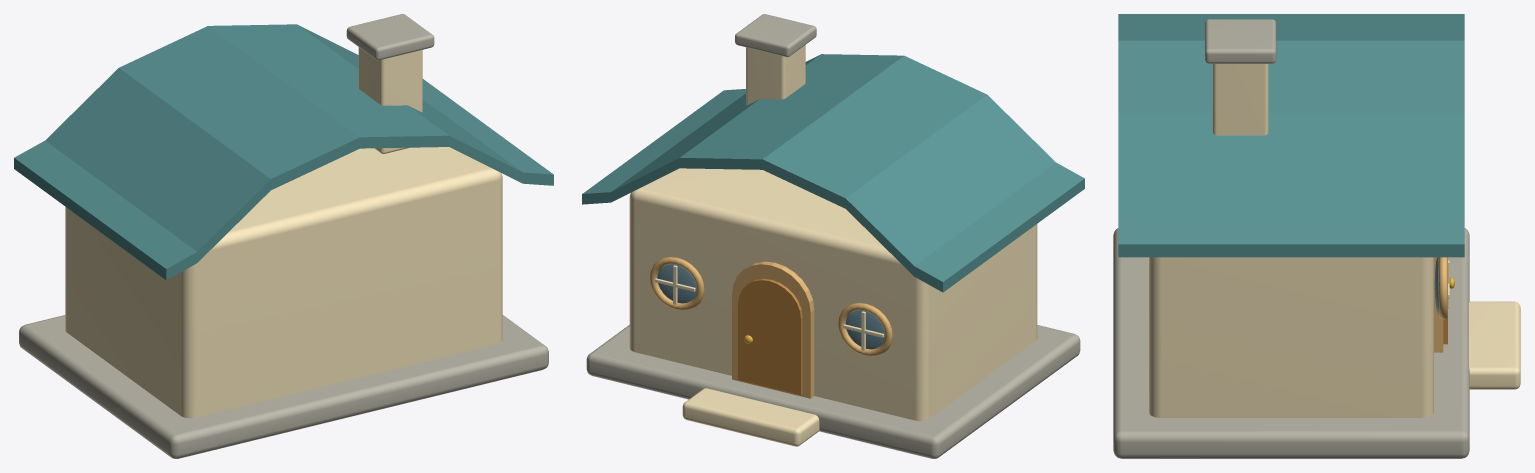
Rendered from house.fbx.
3 views of the same model, side by side, from view 1: azimuth 30°, elevation 25°; view 2: azimuth 150°, elevation 25°; view 3: azimuth 270°, elevation 25° (orthographic). The views are drawn at different scales.
Visible parts, largest first — view 1: house; view 2: house; view 3: house.
Part boxes in pixels (bbox=[...]): house: bbox=[14, 14, 553, 458]; house: bbox=[582, 14, 1084, 458]; house: bbox=[1113, 14, 1520, 458].
Size of the model in its own units: 5 by 4 by 4.
1 material, 1 textured.
